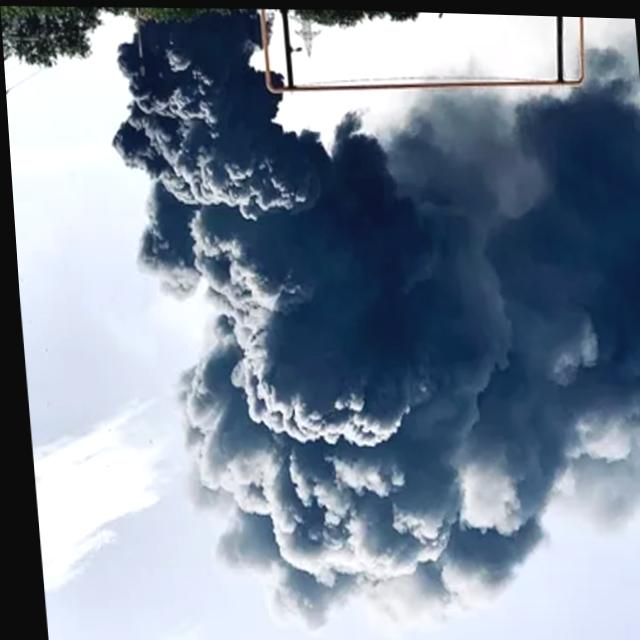Smoke: (103, 26, 640, 637)
